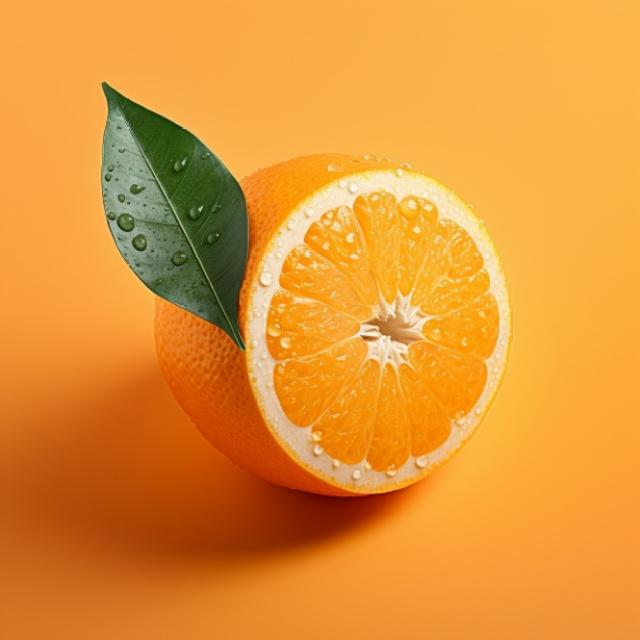orange: (149, 146, 513, 500)
